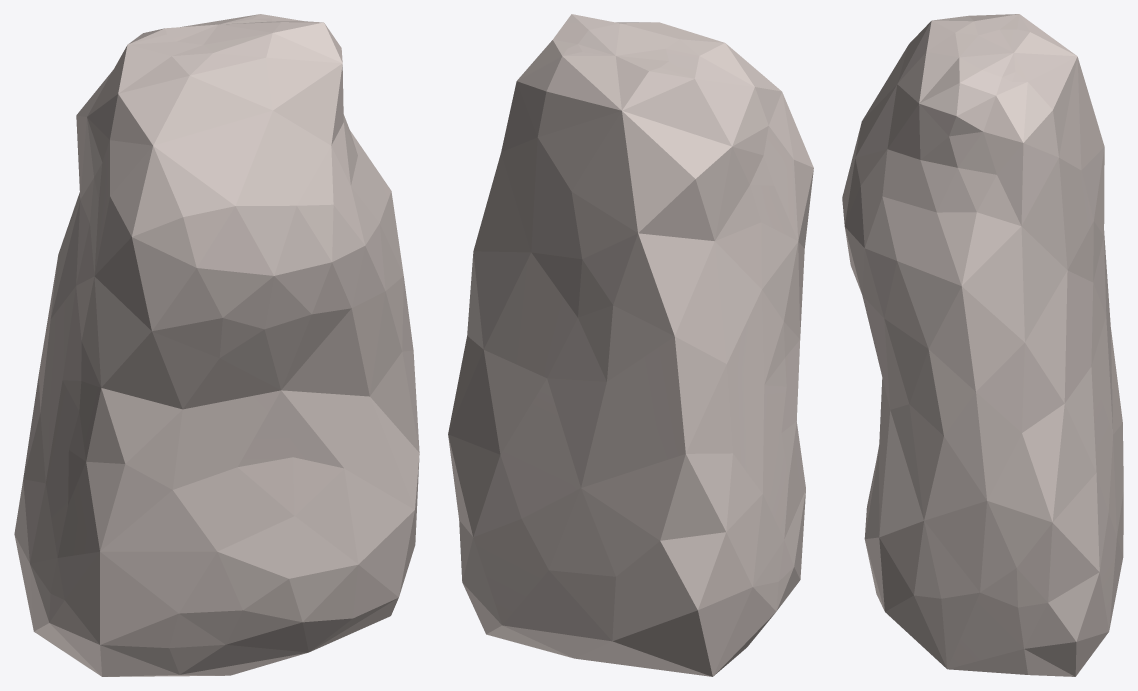
File: rock_008.fbx
3 views of the same model, side by side, from view 1: azimuth 30°, elevation 25°; view 2: azimuth 150°, elevation 25°; view 3: azimuth 270°, elevation 25° (orthographic). The views are drawn at different scales.
Parts seen in each view (by area): view 1: rock.008; view 2: rock.008; view 3: rock.008.
Boxes of the visible parts, left/top/right/bottom form: rock.008: left=14, top=14, right=419, bottom=676; rock.008: left=448, top=14, right=813, bottom=676; rock.008: left=842, top=14, right=1123, bottom=676.
Bounding box in the file's own units: 959 × 1716 × 743.
Materials: 1 (1 with a texture image).
